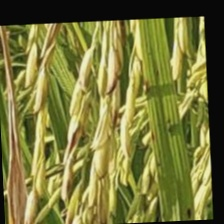Leaf_Blast: (1, 27, 28, 224)
